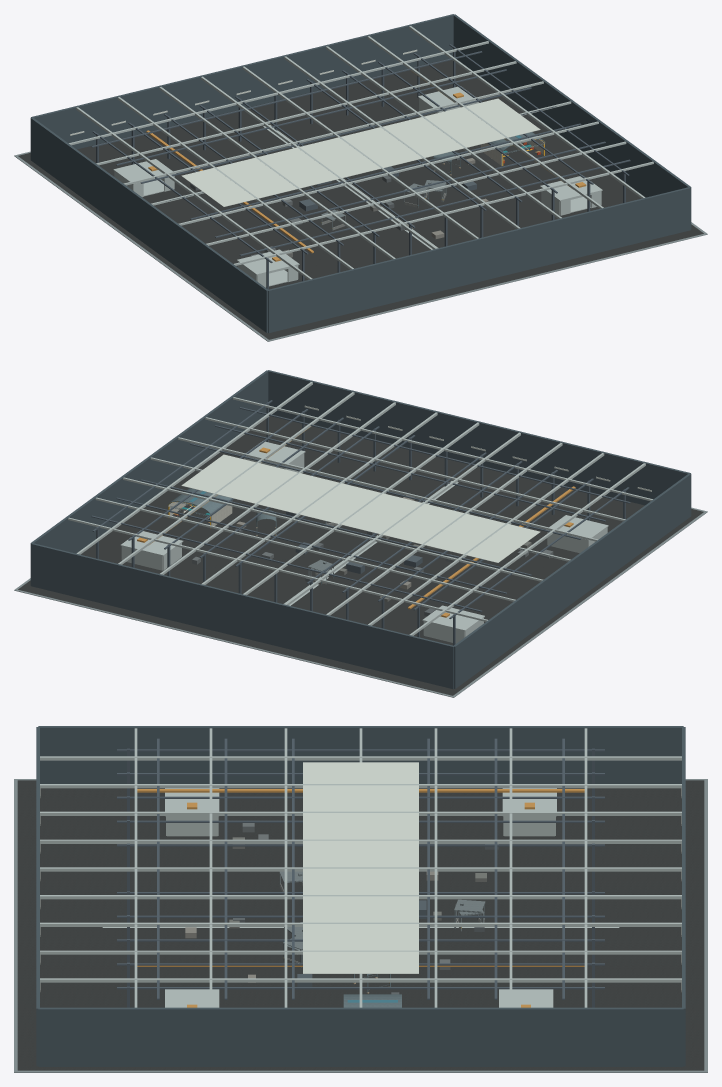
3 views of the same model, one above another, from view 1: azimuth 30°, elevation 25°; view 2: azimuth 150°, elevation 25°; view 3: azimuth 270°, elevation 25° (orthographic). The views are drawn at different scales.
Parts seen in each view (by area): view 1: Runtime hangar_1_0_0, Runtime FPV textured terrain hangar, Runtime hangar_2_0_0, Runtime hangar_4_0_0, Runtime Material_2, Runtime hangar_0_0_0, Runtime hangar_3_0_0, Runtime FPV galvanized metal hangar; view 2: Runtime hangar_1_0_0, Runtime FPV textured terrain hangar, Runtime hangar_2_0_0, Runtime hangar_4_0_0, Runtime Material_2, Runtime hangar_0_0_0, Runtime MCP Authored hangar brushed steel, Runtime hangar_3_0_0; view 3: Runtime FPV textured terrain hangar, Runtime hangar_1_0_0, Runtime hangar_2_0_0, Runtime hangar_4_0_0, Runtime Material_2, Runtime hangar_0_0_0, Runtime hangar_3_0_0, Runtime FPV galvanized metal hangar, Runtime MCP Authored hangar brushed steel.
Boxes of the visible parts, left/top/right/bottom form: Runtime hangar_1_0_0: left=30, top=14, right=691, bottom=333; Runtime FPV textured terrain hangar: left=18, top=59, right=703, bottom=339; Runtime hangar_2_0_0: left=69, top=26, right=653, bottom=287; Runtime hangar_4_0_0: left=70, top=49, right=540, bottom=206; Runtime Material_2: left=91, top=44, right=630, bottom=289; Runtime hangar_0_0_0: left=14, top=151, right=707, bottom=341; Runtime hangar_3_0_0: left=146, top=71, right=586, bottom=261; Runtime FPV galvanized metal hangar: left=321, top=180, right=446, bottom=230; Runtime hangar_1_0_0: left=30, top=370, right=691, bottom=689; Runtime FPV textured terrain hangar: left=18, top=415, right=703, bottom=695; Runtime hangar_2_0_0: left=68, top=382, right=652, bottom=643; Runtime hangar_4_0_0: left=181, top=405, right=651, bottom=562; Runtime Material_2: left=91, top=400, right=630, bottom=645; Runtime hangar_0_0_0: left=14, top=507, right=707, bottom=697; Runtime MCP Authored hangar brushed steel: left=168, top=488, right=276, bottom=535; Runtime hangar_3_0_0: left=137, top=427, right=575, bottom=617; Runtime FPV textured terrain hangar: left=17, top=780, right=704, bottom=1070; Runtime hangar_1_0_0: left=36, top=726, right=685, bottom=1066; Runtime hangar_2_0_0: left=40, top=728, right=681, bottom=1007; Runtime hangar_4_0_0: left=40, top=762, right=681, bottom=991; Runtime Material_2: left=117, top=738, right=604, bottom=1007; Runtime hangar_0_0_0: left=14, top=779, right=707, bottom=1072; Runtime hangar_3_0_0: left=137, top=789, right=584, bottom=1007; Runtime FPV galvanized metal hangar: left=279, top=871, right=485, bottom=967; Runtime MCP Authored hangar brushed steel: left=343, top=974, right=401, bottom=1007.
Bounding box in the file's own units: 370 × 34.67 × 370.
26 materials, 8 textured.
